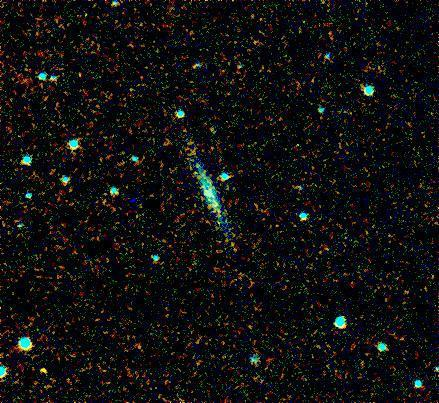star: (31, 355, 61, 385)
